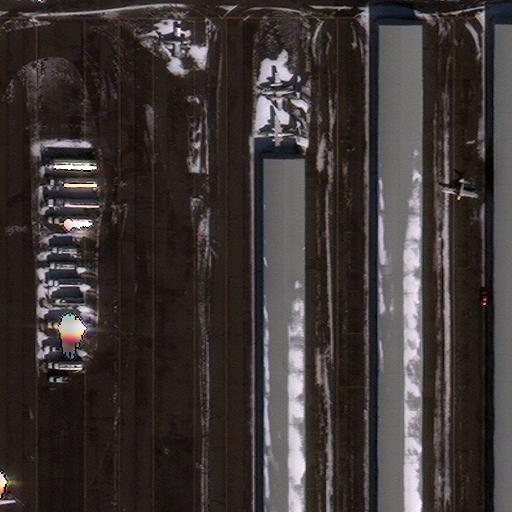Small Civil Transport: (260, 115, 302, 153), (261, 73, 300, 110), (158, 26, 189, 56), (441, 178, 477, 200)
